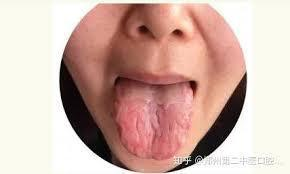baitaishe: (114, 85, 195, 160)
